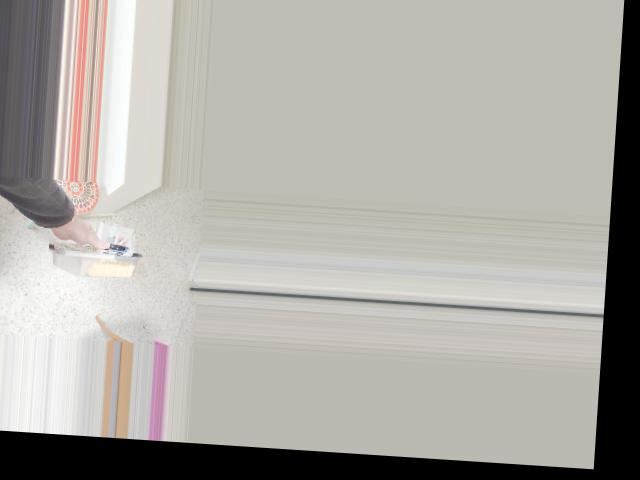cheese: (41, 187, 144, 287)
